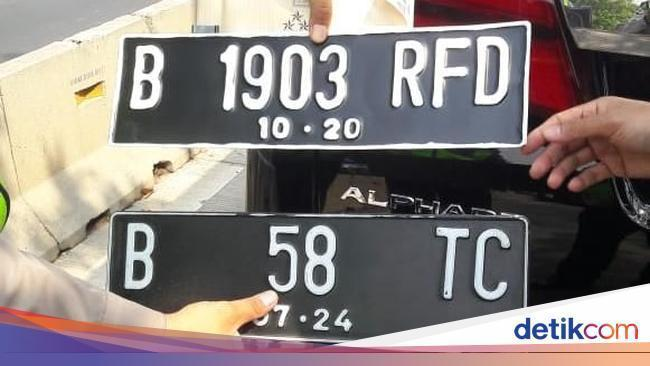0: (279, 40, 313, 110)
1: (213, 40, 242, 111)
3: (312, 40, 350, 112)
5: (266, 220, 300, 296)
8: (304, 221, 338, 296)
9: (242, 42, 276, 112)
B: (116, 219, 160, 295), (126, 42, 168, 114)
C: (473, 223, 514, 302)
D: (473, 32, 512, 112)
F: (430, 34, 472, 114)
Plate: (108, 213, 526, 340), (110, 23, 527, 145)
R: (387, 36, 431, 114)
T: (432, 224, 472, 304)
